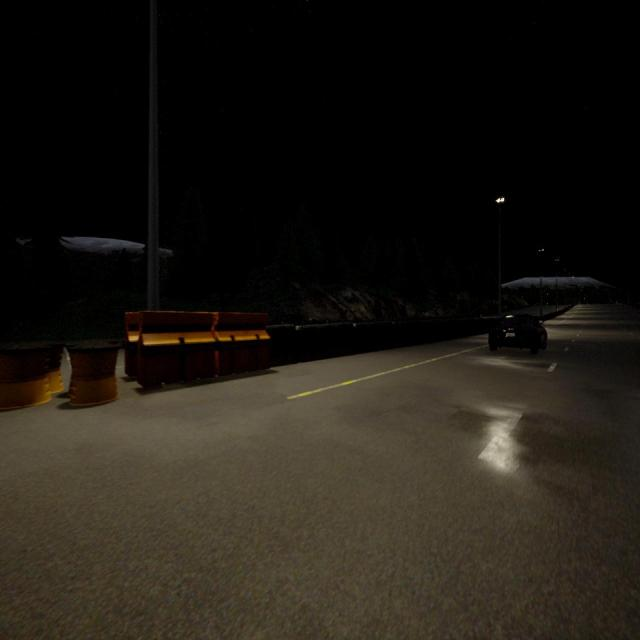Vehicle: (488, 315, 547, 353)
